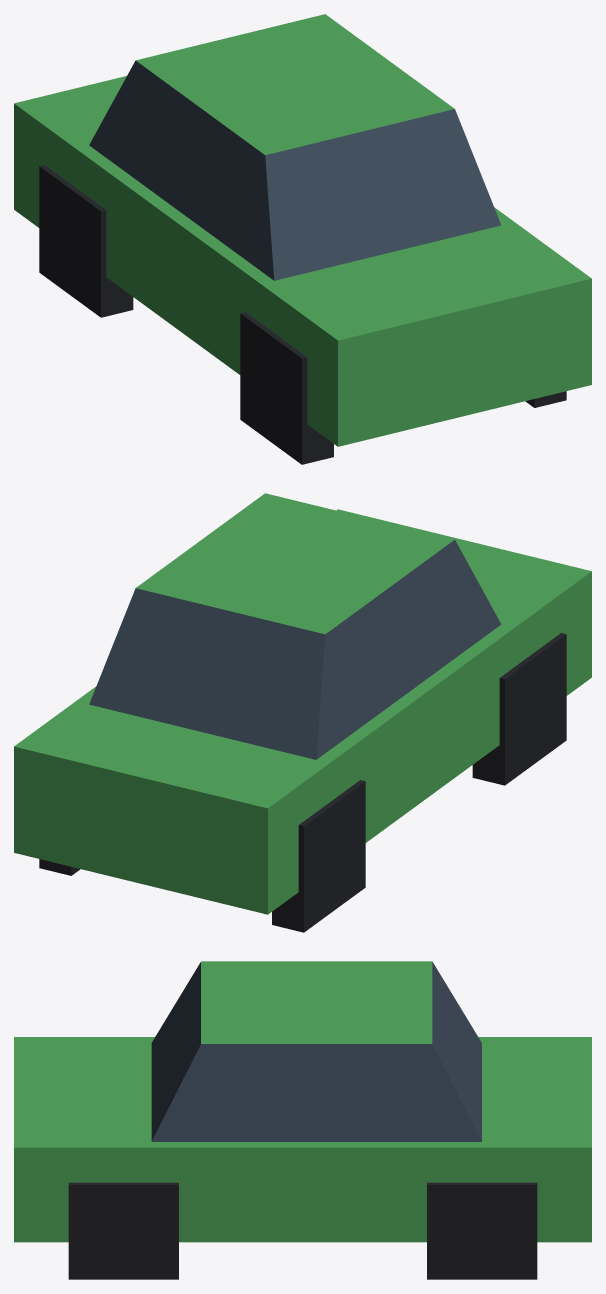
File: V_CarGreen.fbx
3 views of the same model, one above another, from view 1: azimuth 30°, elevation 25°; view 2: azimuth 150°, elevation 25°; view 3: azimuth 270°, elevation 25° (orthographic). The views are drawn at different scales.
Visible parts, largest first — view 1: V_CarGreen.001; view 2: V_CarGreen.001; view 3: V_CarGreen.001.
Part boxes in pixels (left/top/right/bottom): V_CarGreen.001: left=14, top=14, right=591, bottom=464; V_CarGreen.001: left=14, top=493, right=591, bottom=932; V_CarGreen.001: left=14, top=961, right=591, bottom=1279.
Size of the model in its own units: 0.99 by 0.88 by 2.1.
